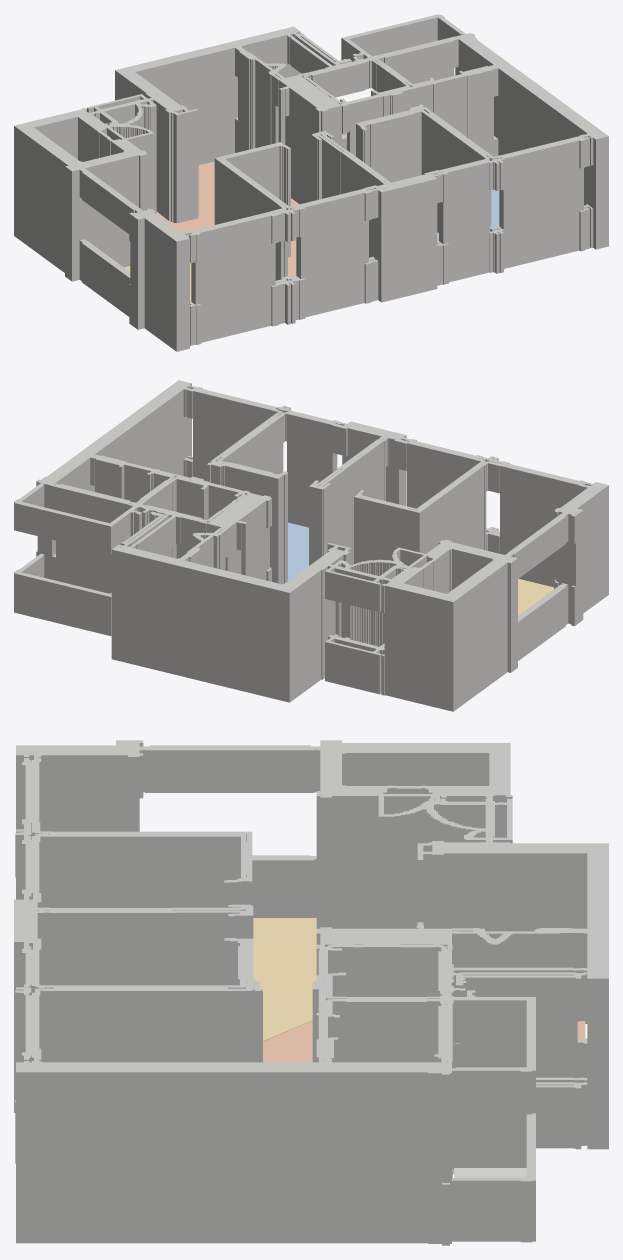
3 views of the same model, one above another, from view 1: azimuth 30°, elevation 25°; view 2: azimuth 150°, elevation 25°; view 3: azimuth 270°, elevation 25° (orthographic). The views are drawn at different scales.
Parts seen in each view (by area): view 1: walls, room:kitchen:1; view 2: walls, room:bedroom:6, room:living:3; view 3: walls, room:living:3, room:kitchen:1, room:ledge:2.
Part boxes in pixels (x1,y1,x2,y2): walls: (14,14,608,351); room:kitchen:1: (156,161,298,277); walls: (14,380,608,711); room:bedroom:6: (283,522,308,584); room:living:3: (518,578,553,615); walls: (14,740,608,1245); room:living:3: (253,918,316,1041); room:kitchen:1: (263,1021,585,1062); room:ledge:2: (454,1168,526,1177).
Size of the model in its own units: 11.75 by 2.8 by 8.84.
